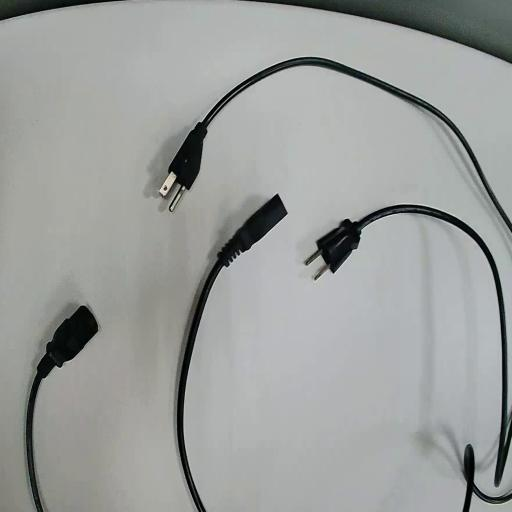wire: (169, 59, 511, 229), (315, 206, 511, 483), (177, 196, 285, 511), (26, 306, 97, 511)
